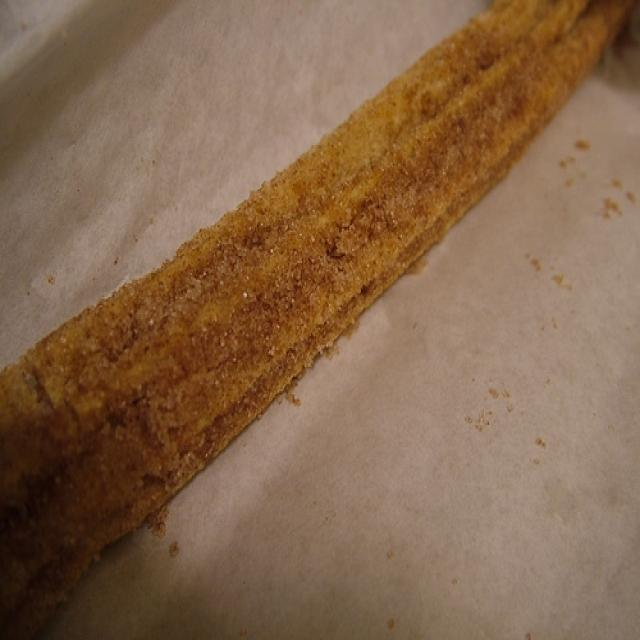炸货点心: (4, 12, 630, 614)
